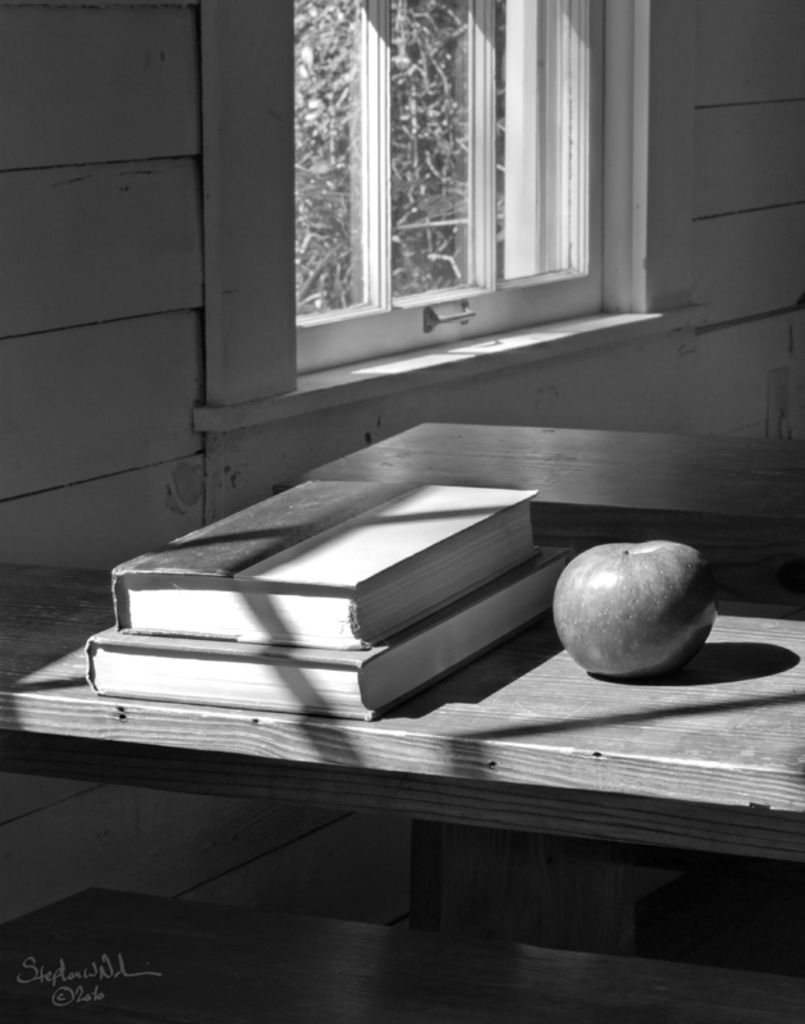Apple: (554, 540, 719, 678)
